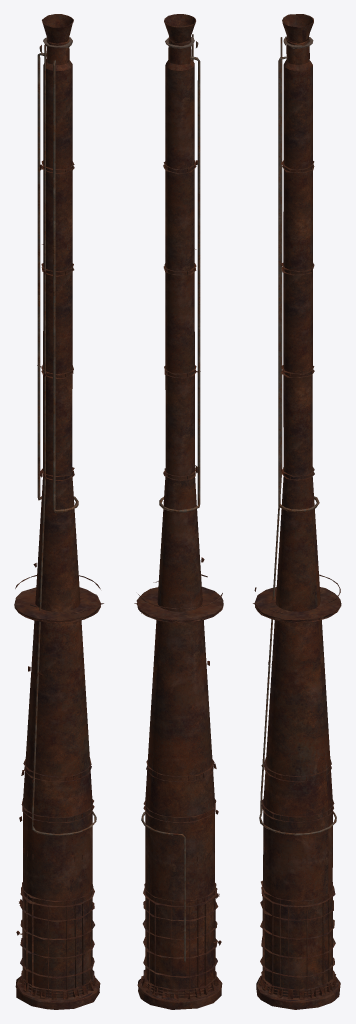
File: SM_SmokePipes_03.fbx
3 renders of one model, left to right at view 1: azimuth 30°, elevation 25°; view 2: azimuth 210°, elevation 25°; view 3: azimuth 330°, elevation 25°, orthographic.
Visible parts, largest first — view 1: SM_SmokePipes_03_LOD0; view 2: SM_SmokePipes_03_LOD0; view 3: SM_SmokePipes_03_LOD0.
Part boxes in pixels (<box>): SM_SmokePipes_03_LOD0: <box>14,14,103,1009</box>; SM_SmokePipes_03_LOD0: <box>134,14,223,1009</box>; SM_SmokePipes_03_LOD0: <box>253,14,341,1009</box>.
Size of the model in its own units: 126 by 124 by 1507.
1 material, 1 textured.
